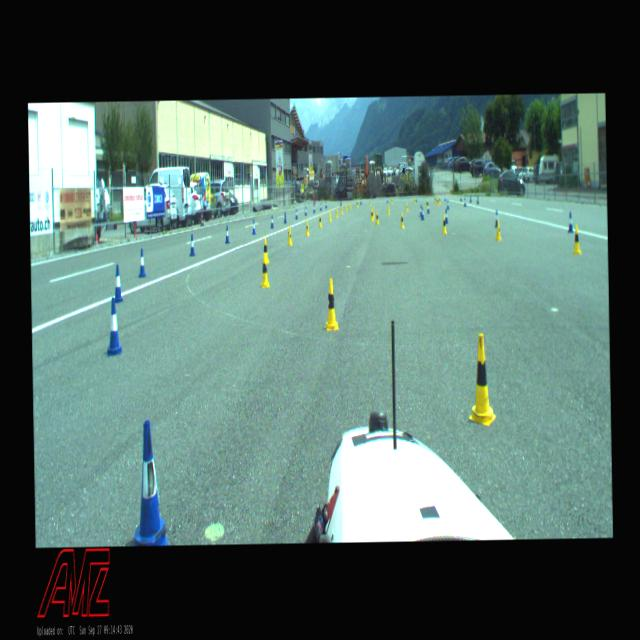blue_cone: (130, 420, 168, 546), (105, 297, 122, 354), (114, 264, 122, 302), (138, 248, 145, 276), (567, 211, 573, 231), (189, 233, 194, 254), (493, 210, 498, 226), (224, 225, 228, 242), (252, 218, 256, 234), (444, 208, 448, 224), (270, 215, 274, 228), (294, 208, 298, 219), (421, 207, 424, 220), (426, 202, 429, 213), (419, 204, 421, 216), (284, 212, 286, 222), (446, 200, 448, 209), (304, 206, 306, 215)
yellow_cone: (467, 333, 495, 425), (323, 278, 338, 330), (260, 252, 269, 286), (572, 225, 581, 254), (262, 237, 268, 262), (495, 218, 501, 240), (287, 226, 292, 245), (304, 218, 309, 236), (442, 215, 446, 233), (400, 212, 404, 228), (374, 210, 378, 223), (318, 214, 322, 226), (370, 208, 373, 220), (386, 204, 389, 215), (328, 210, 331, 221), (405, 202, 408, 210), (372, 207, 374, 218)
